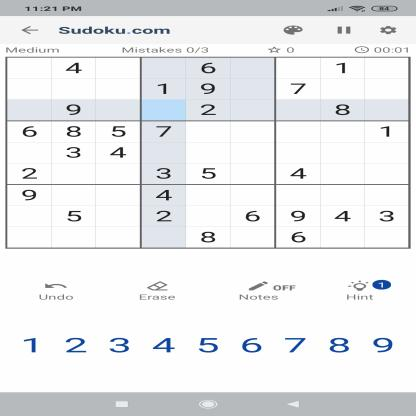sudoku: (0, 52, 413, 252)
